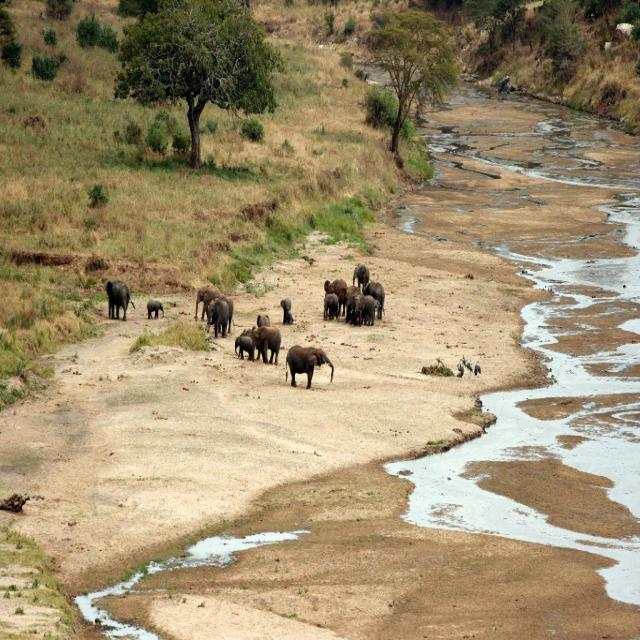elephant: (285, 339, 332, 391), (191, 287, 237, 340), (240, 325, 282, 360), (105, 276, 136, 320), (323, 276, 349, 309), (357, 293, 379, 325), (318, 290, 338, 322), (144, 297, 164, 322), (355, 255, 369, 285), (370, 277, 380, 314), (235, 340, 253, 359), (282, 300, 292, 325)
